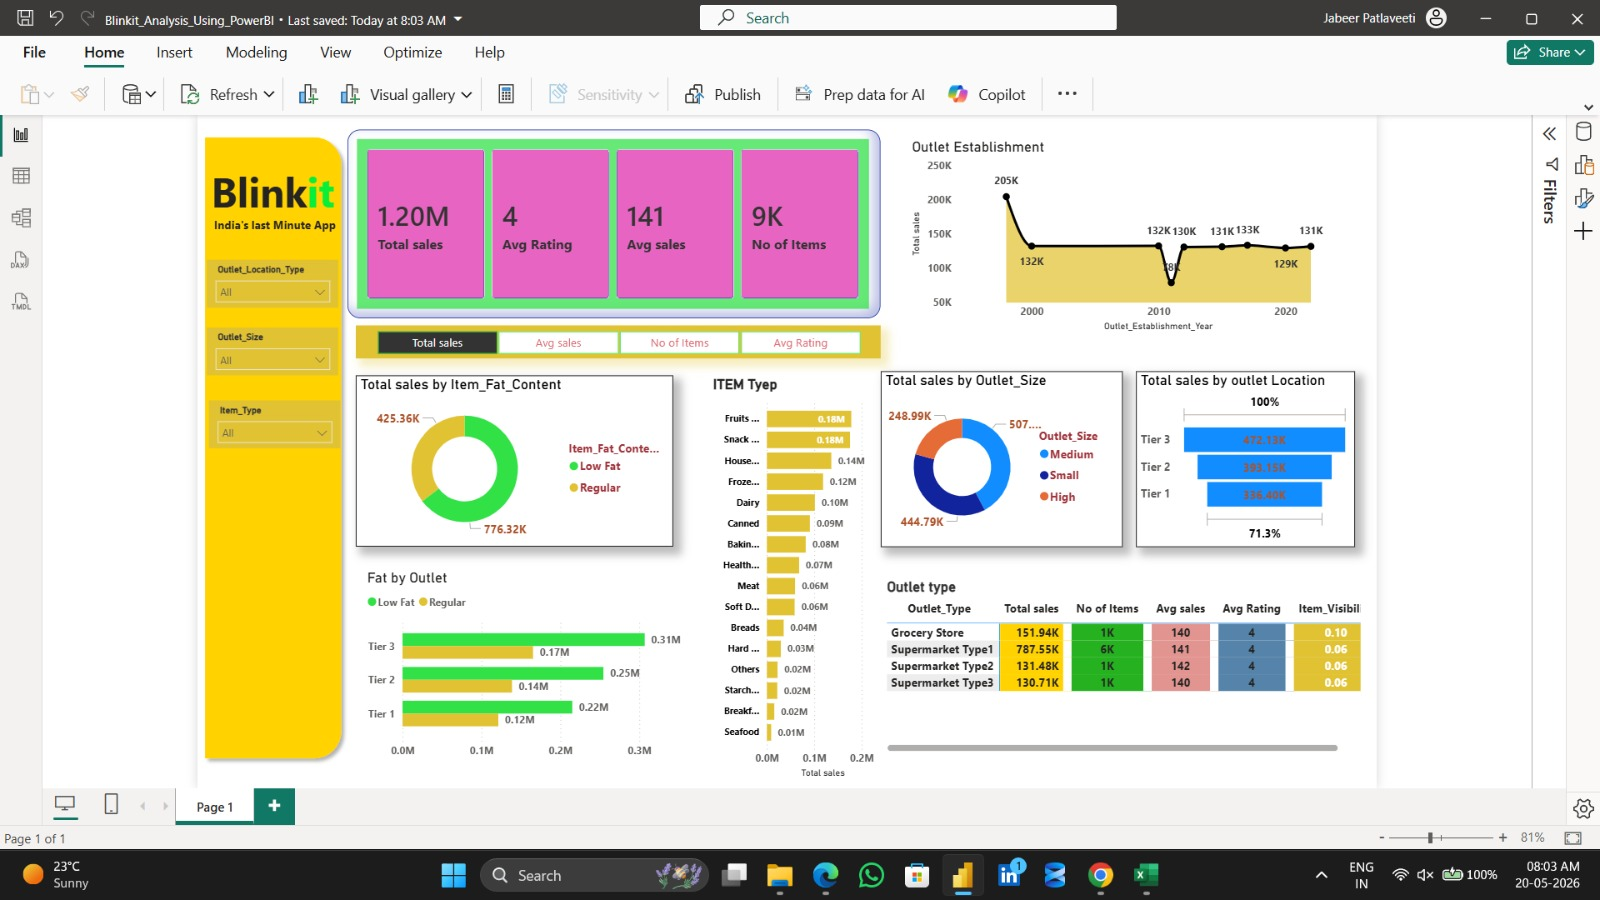

What the dashboard file says about the page in this screenshot:
{"tool":"powerbi","page":{"name":"Page 1","canvas":[1400,800],"ordinal":0},"visuals":[{"type":"shape","box":[0,17.4,179.9,755.9],"z":0},{"type":"textbox","box":[10.7,53.6,168.9,76.4],"z":1000},{"type":"textbox","box":[14.7,116.6,164.9,28.2],"z":2000},{"type":"cardVisual","fields":{"Data":["BlinkIT Grocery Data.Total sales","BlinkIT Grocery Data.Avg Rating","BlinkIT Grocery Data.Avg sales","BlinkIT Grocery Data.No of Items"]},"box":[178.3,17.4,632.8,224.1],"z":3000},{"type":"donutChart","fields":{"Category":["BlinkIT Grocery Data.Item_Fat_Content"],"Y":["BlinkIT Grocery Data.Total sales"]},"box":[187.8,309.3,377.1,203.6],"z":4000},{"type":"slicer","fields":{"Values":["Metrics.Metrics"]},"box":[187.8,249.3,623.3,39.5],"z":5000},{"type":"clusteredBarChart","title":"Fat by Outlet","fields":{"Category":["BlinkIT Grocery Data.Outlet_Location_Type"],"Series":["BlinkIT Grocery Data.Item_Fat_Content"],"Y":["BlinkIT Grocery Data.Total sales"]},"box":[197.3,539.7,397.7,233.5],"z":6000},{"type":"barChart","title":"ITEM Tyep","fields":{"Category":["BlinkIT Grocery Data.Item_Type"],"Y":["BlinkIT Grocery Data.Total sales"]},"box":[607.5,309.3,222.5,482.9],"z":7000},{"type":"lineChart","title":"Outlet  Establishment","fields":{"Category":["BlinkIT Grocery Data.Outlet_Establishment_Year"],"Y":["BlinkIT Grocery Data.Total sales"]},"box":[843.2,26.8,542.9,234.6],"z":8000},{"type":"donutChart","fields":{"Category":["BlinkIT Grocery Data.Outlet_Size"],"Y":["BlinkIT Grocery Data.Total sales"]},"box":[811,304.3,286.9,209.1],"z":9000},{"type":"funnel","title":"Total sales by outlet Location","fields":{"Category":["BlinkIT Grocery Data.Outlet_Location_Type"],"Y":["BlinkIT Grocery Data.Total sales"]},"box":[1105.9,309.7,260.1,209.1],"z":10000},{"type":"pivotTable","title":"Outlet type","fields":{"Rows":["BlinkIT Grocery Data.Outlet_Type"],"Values":["BlinkIT Grocery Data.Total sales","BlinkIT Grocery Data.No of Items","BlinkIT Grocery Data.Avg sales","BlinkIT Grocery Data.Avg Rating","Avg(BlinkIT Grocery Data.Item_Visibility)"]},"box":[813.7,550.9,572.4,210.5],"z":11000},{"type":"slicer","fields":{"Values":["BlinkIT Grocery Data.Outlet_Location_Type"]},"box":[11,172,156.2,56.8],"z":11001},{"type":"slicer","fields":{"Values":["BlinkIT Grocery Data.Item_Type"]},"box":[14.2,339.3,156.2,56.8],"z":11002},{"type":"slicer","fields":{"Values":["BlinkIT Grocery Data.Outlet_Size"]},"box":[11,252.5,156.2,56.8],"z":11003}]}

Visuals, with their boxes on the page's 1400x800 design canvas (x1, y1, x2, y2). These are canvas units, not pixel positions in the 1600x900 screenshot, which may show the page scaled, cropped or inside an application window:
shape: locate(0, 17, 180, 773)
textbox: locate(11, 54, 180, 130)
textbox: locate(15, 117, 180, 145)
cardVisual - BlinkIT Grocery Data.Total sales x BlinkIT Grocery Data.Avg Rating: locate(178, 17, 811, 242)
donutChart - BlinkIT Grocery Data.Item_Fat_Content x BlinkIT Grocery Data.Total sales: locate(188, 309, 565, 513)
slicer - Metrics.Metrics: locate(188, 249, 811, 289)
"Fat by Outlet" clusteredBarChart: locate(197, 540, 595, 773)
"ITEM Tyep" barChart: locate(608, 309, 830, 792)
"Outlet  Establishment" lineChart: locate(843, 27, 1386, 261)
donutChart - BlinkIT Grocery Data.Outlet_Size x BlinkIT Grocery Data.Total sales: locate(811, 304, 1098, 513)
"Total sales by outlet Location" funnel: locate(1106, 310, 1366, 519)
"Outlet type" pivotTable: locate(814, 551, 1386, 761)
slicer - BlinkIT Grocery Data.Outlet_Location_Type: locate(11, 172, 167, 229)
slicer - BlinkIT Grocery Data.Item_Type: locate(14, 339, 170, 396)
slicer - BlinkIT Grocery Data.Outlet_Size: locate(11, 252, 167, 309)
